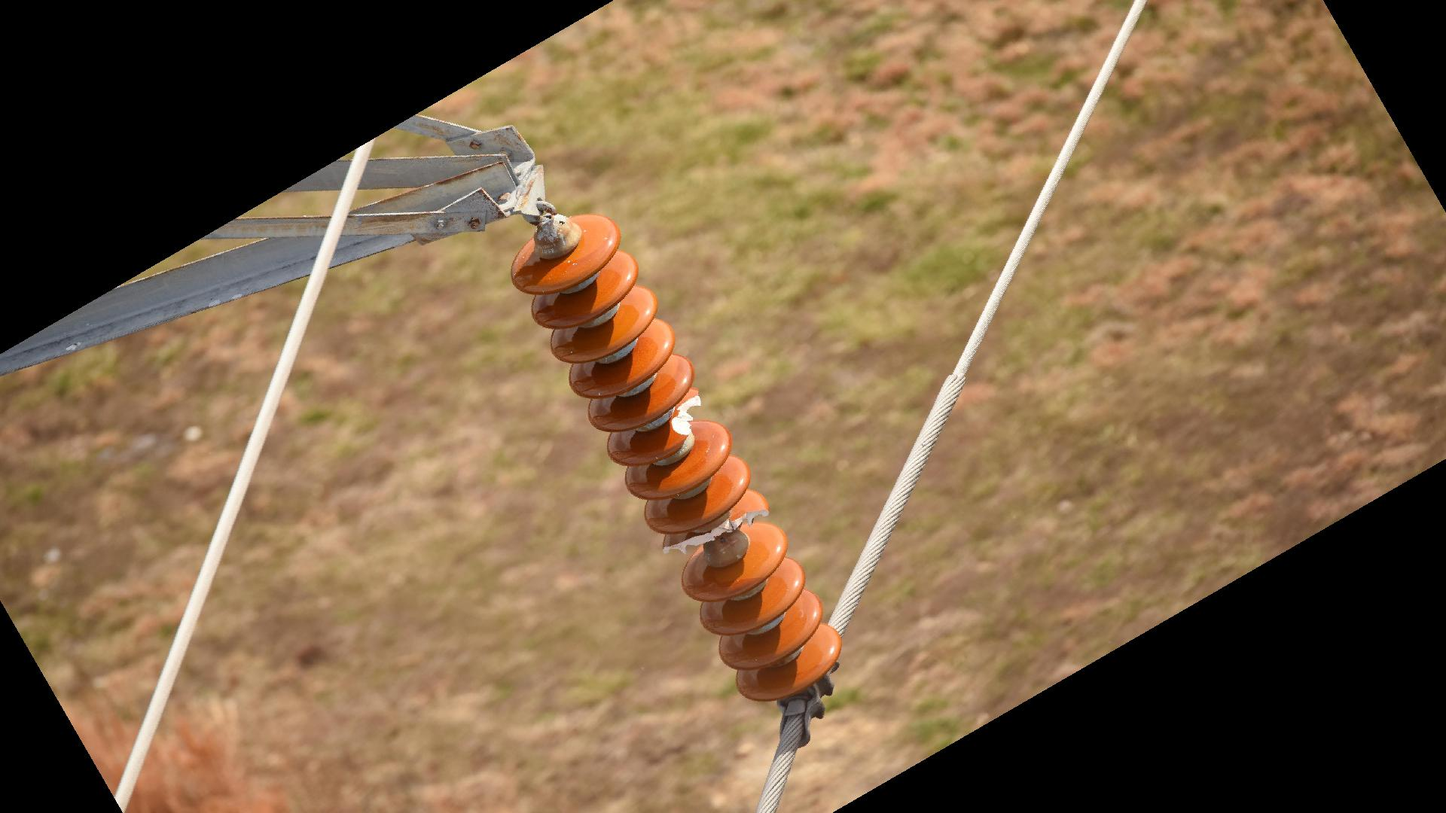insulator: (506, 209, 846, 706)
insulator_breakage: (657, 503, 773, 558), (667, 385, 706, 443)
